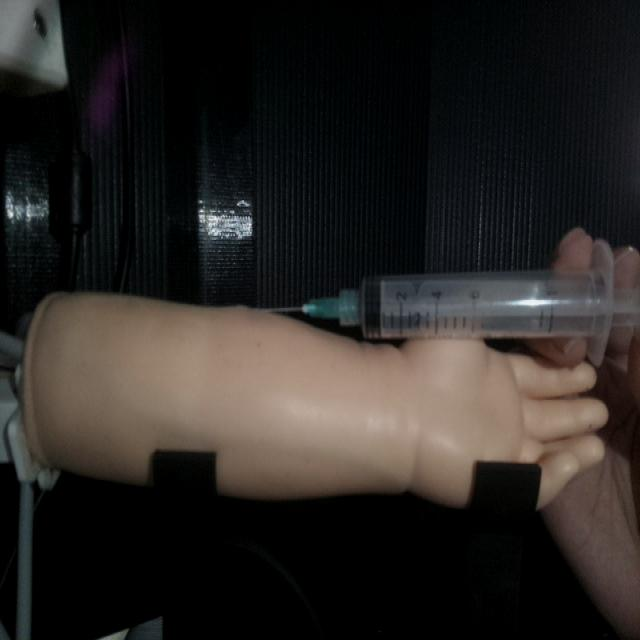Below 15 degrees: (262, 261, 637, 351)
